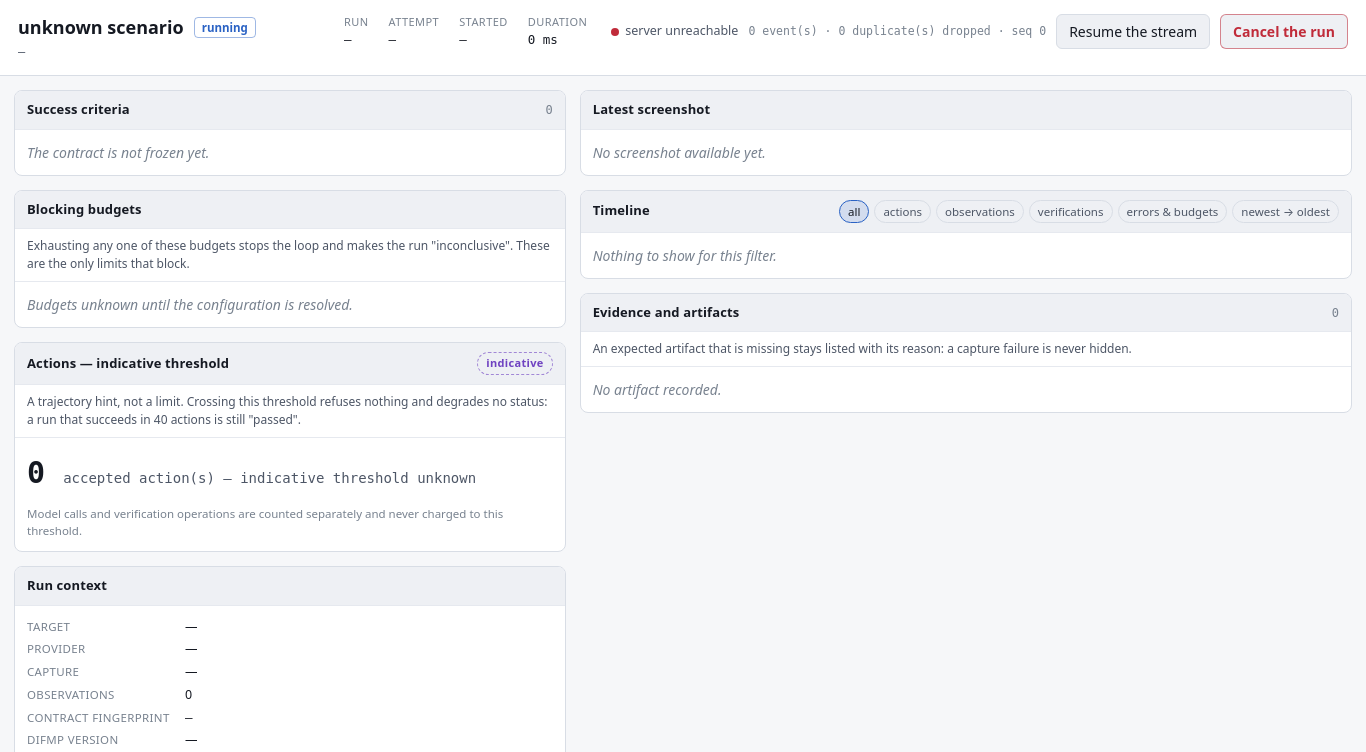
App — reconnection › offers a manual resume once the takeover attempts are exhausted
expect the element with test id "connection-state" reads "server unreachable": met, box [625,22,738,39]
What coordinates should you click on to do the following:
click the button with test id "reconnect-button"
I would click on:
 (1133, 32)
Its box is [1056,14,1210,49].
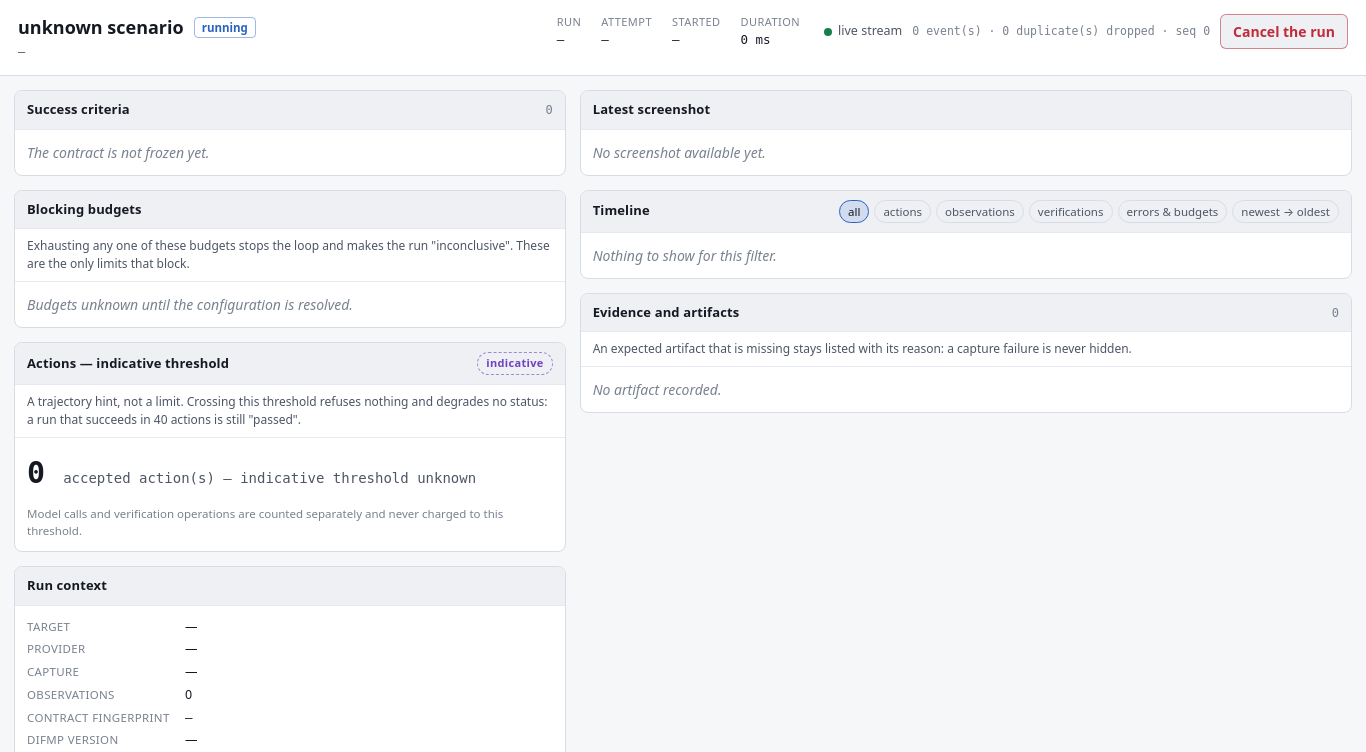
expect the element with test id "connection-state" reads "live stream": met, box [838,22,902,39]
